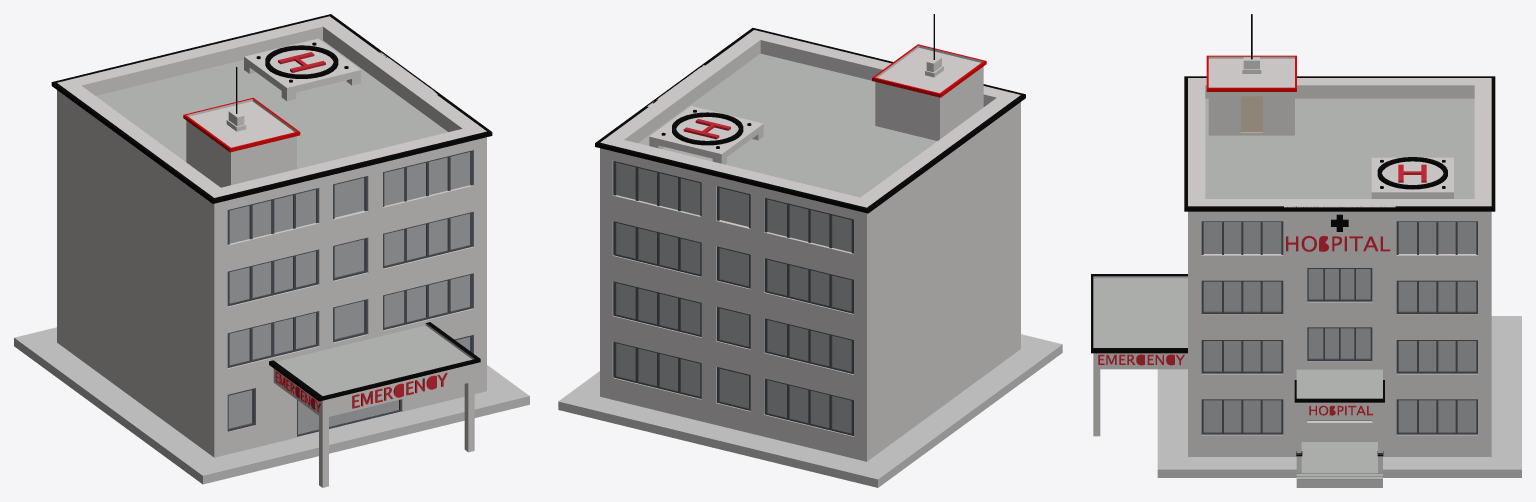
File: hospital.fbx
3 views of the same model, side by side, from view 1: azimuth 30°, elevation 25°; view 2: azimuth 150°, elevation 25°; view 3: azimuth 270°, elevation 25° (orthographic). The views are drawn at different scales.
Parts seen in each view (by area): view 1: polySurface93, pCube50, polySurface68, pCube1, polySurface90, pCube17, polySurface92; view 2: polySurface93, polySurface68, pCube50, pCube1, pCube17, polySurface90, polySurface92; view 3: polySurface93, pCube50, polySurface68, pCube1, polySurface90, pCube17, polySurface84, polySurface92.
Boxes of the visible parts, x1,y1,x2,y2 form: polySurface93: (57,16,486,487); pCube50: (96,40,471,395); polySurface68: (228,152,470,433); pCube1: (14,327,529,484); polySurface90: (51,14,492,412); pCube17: (227,150,473,436); polySurface92: (183,97,300,152); polySurface93: (600,30,1020,461); polySurface68: (616,162,851,432); pCube50: (638,53,937,197); pCube1: (558,334,1062,487); pCube17: (613,161,853,435); polySurface90: (595,14,1025,213); polySurface92: (872,44,986,97); polySurface93: (1093,56,1491,473); pCube50: (1093,98,1474,479); polySurface68: (1203,222,1476,432); pCube1: (1157,316,1521,487); polySurface90: (1091,14,1495,456); pCube17: (1201,221,1477,434); polySurface84: (1240,96,1262,132); polySurface92: (1206,55,1296,91).
Bounding box in the file's own units: 196 × 218 × 195.
